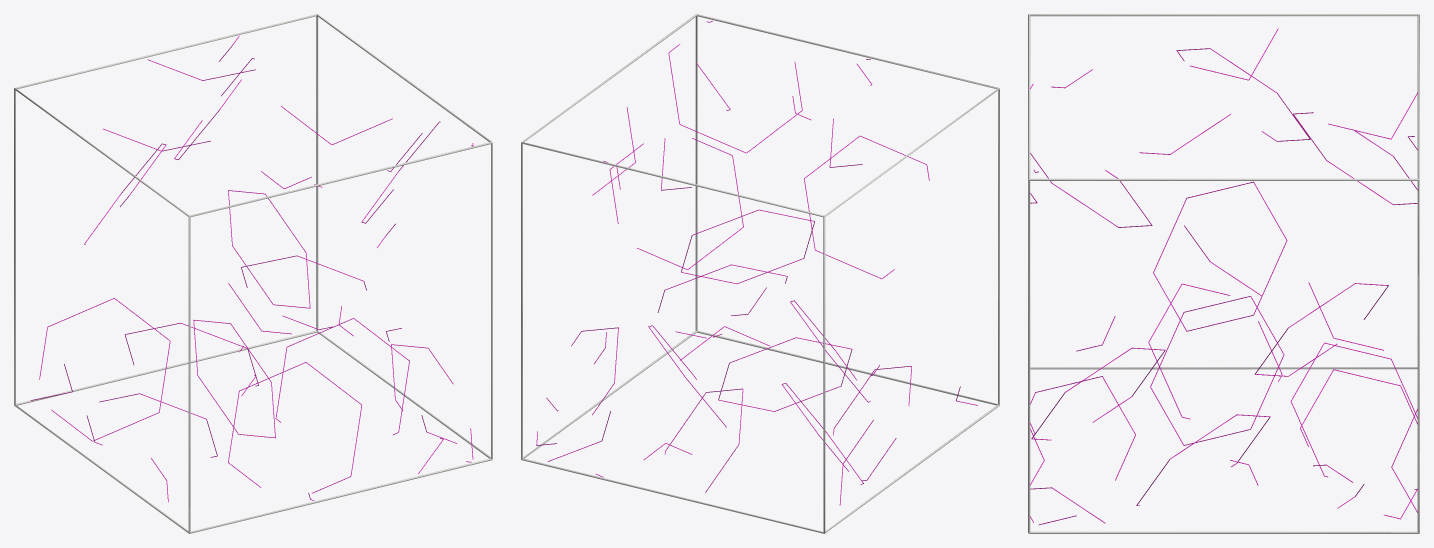
File: DDD000.glb
3 renders of one model, left to right at view 1: azimuth 30°, elevation 25°; view 2: azimuth 150°, elevation 25°; view 3: azimuth 270°, elevation 25°, orthographic. The views are drawn at different scales.
Visible parts, largest first — view 1: Shape_IndexedLineSet, Shape_IndexedLineSet.001; view 2: Shape_IndexedLineSet, Shape_IndexedLineSet.001; view 3: Shape_IndexedLineSet, Shape_IndexedLineSet.001.
Boxes of the visible parts, x1,y1,x2,y2 form: Shape_IndexedLineSet: (14,14,492,533); Shape_IndexedLineSet.001: (30,35,473,502); Shape_IndexedLineSet: (521,14,999,533); Shape_IndexedLineSet.001: (536,21,977,505); Shape_IndexedLineSet: (1028,14,1419,533); Shape_IndexedLineSet.001: (1030,28,1417,524).
Size of the model in its own units: 10.06 by 10.06 by 10.06.
